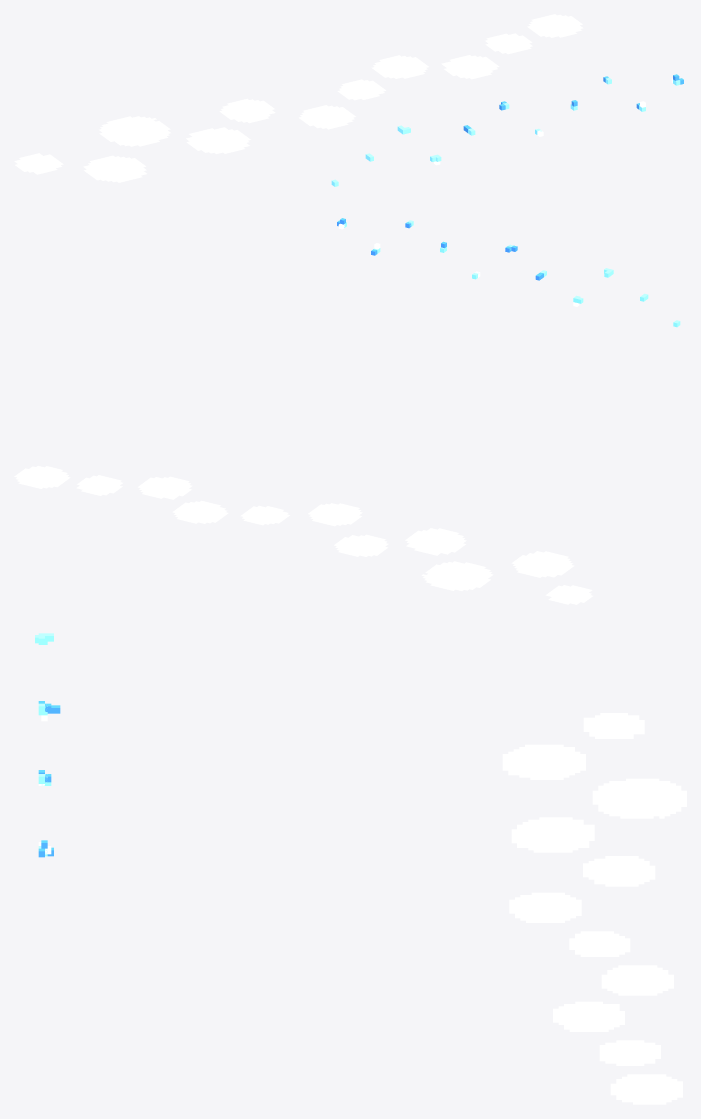
File: vfx_dragon_gust.glb
The picture shows the model from 3 angles, top to bottom: view 1: azimuth 30°, elevation 25°; view 2: azimuth 150°, elevation 25°; view 3: azimuth 270°, elevation 25°; orthographic projection. The views are drawn at different scales.
Parts seen in each view (by area): view 1: Heap2, Heap3, Heap1, Heap5, Heap7, Heap10, Heap8, Heap4, Heap9, Heap6, Heap0; view 2: Heap2, Heap1, Heap3, Heap5, Heap7, Heap10, Heap8, Heap4, Heap6, Heap9, Heap0; view 3: Heap2, Heap3, Heap1, Heap7, Heap5, Heap10, Heap4, Heap8, Heap9, Heap0, Heap6.
Part boxes in pixels (x1,y1,x2,y2): Heap2: [99, 116, 170, 146]; Heap3: [186, 127, 250, 153]; Heap1: [83, 155, 146, 182]; Heap5: [299, 105, 355, 129]; Heap7: [371, 55, 428, 78]; Heap10: [527, 14, 583, 37]; Heap8: [441, 55, 499, 79]; Heap4: [219, 98, 275, 123]; Heap9: [485, 33, 532, 54]; Heap6: [337, 79, 385, 100]; Heap0: [14, 153, 63, 174]; Heap2: [421, 561, 493, 590]; Heap1: [511, 551, 574, 577]; Heap3: [405, 528, 466, 555]; Heap5: [308, 503, 362, 526]; Heap7: [172, 500, 228, 523]; Heap10: [14, 466, 70, 488]; Heap8: [138, 476, 192, 499]; Heap4: [334, 534, 388, 556]; Heap6: [240, 505, 289, 525]; Heap9: [76, 475, 122, 495]; Heap0: [545, 585, 592, 604]; Heap2: [592, 778, 686, 818]; Heap3: [511, 817, 594, 852]; Heap1: [502, 744, 585, 779]; Heap7: [601, 965, 673, 995]; Heap5: [509, 892, 581, 922]; Heap10: [610, 1074, 682, 1104]; Heap4: [583, 856, 655, 886]; Heap8: [553, 1001, 624, 1031]; Heap9: [599, 1040, 660, 1065]; Heap0: [583, 713, 644, 738]; Heap6: [569, 931, 630, 956].
Bounding box in the file's own units: 33.4 × 8.07 × 24.26.
